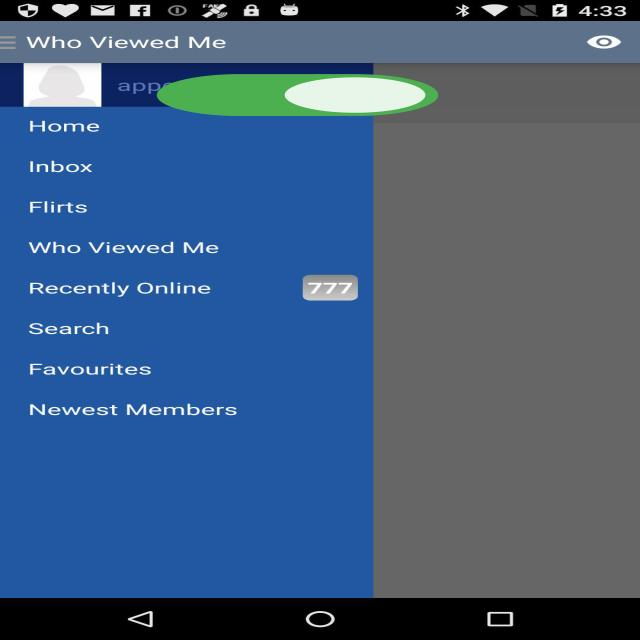social proof: (144, 58, 451, 135)
